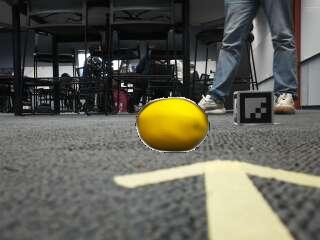lemon: (137, 99, 209, 151)
